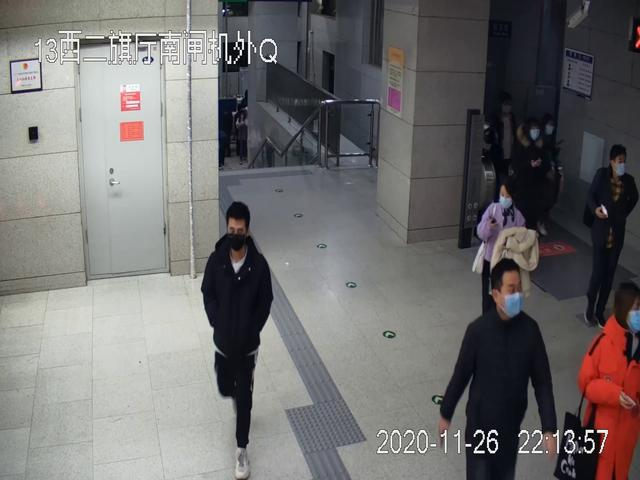person: (440, 260, 557, 480), (201, 201, 272, 480), (578, 283, 640, 480), (472, 179, 540, 342), (583, 144, 640, 330)
